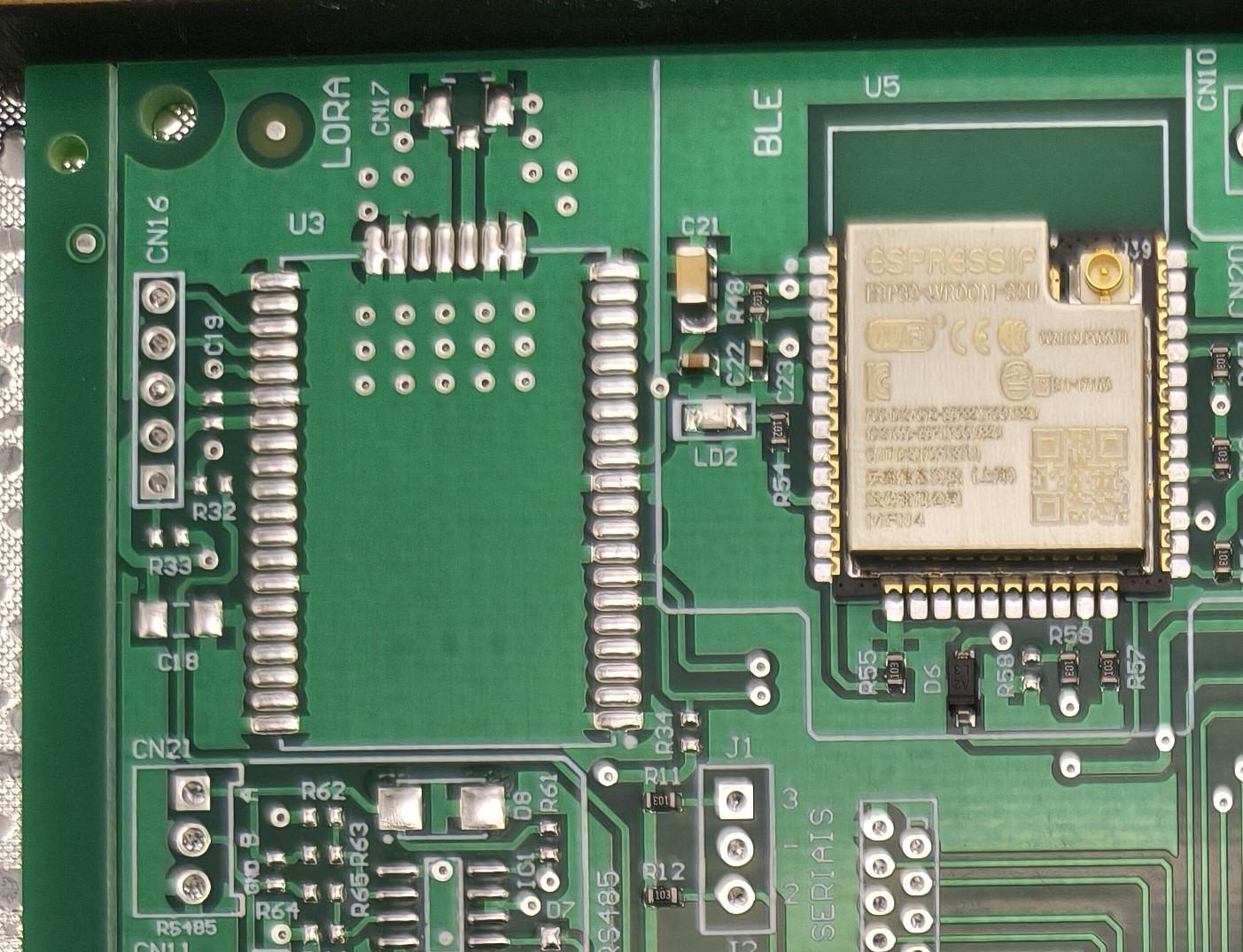C+: (664, 238, 726, 340), (748, 333, 770, 380), (677, 352, 715, 379)
R+: (747, 277, 774, 328), (641, 886, 691, 912), (1205, 436, 1231, 483), (642, 789, 687, 815), (1205, 341, 1233, 382), (1212, 538, 1234, 587), (1061, 649, 1084, 686), (886, 647, 904, 693), (1102, 647, 1120, 686), (769, 413, 790, 445)
R/CFaltante: (125, 589, 229, 646), (188, 466, 236, 500), (304, 841, 353, 874), (197, 392, 233, 436), (538, 813, 567, 865), (298, 806, 345, 836), (294, 878, 344, 906), (679, 710, 709, 755), (143, 520, 190, 548), (304, 922, 354, 948), (263, 848, 289, 893)
